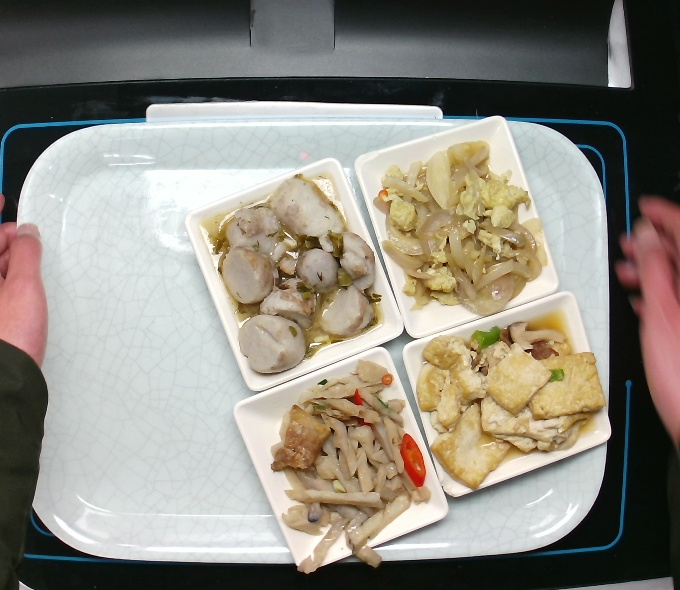wcq-JiaChangDouFu: (412, 326, 613, 489)
wcq-QingChaoOuPian: (264, 358, 435, 572)
wcq-YangCongChaoDan: (368, 137, 558, 323)
wcq-YangYu: (203, 173, 390, 377)
